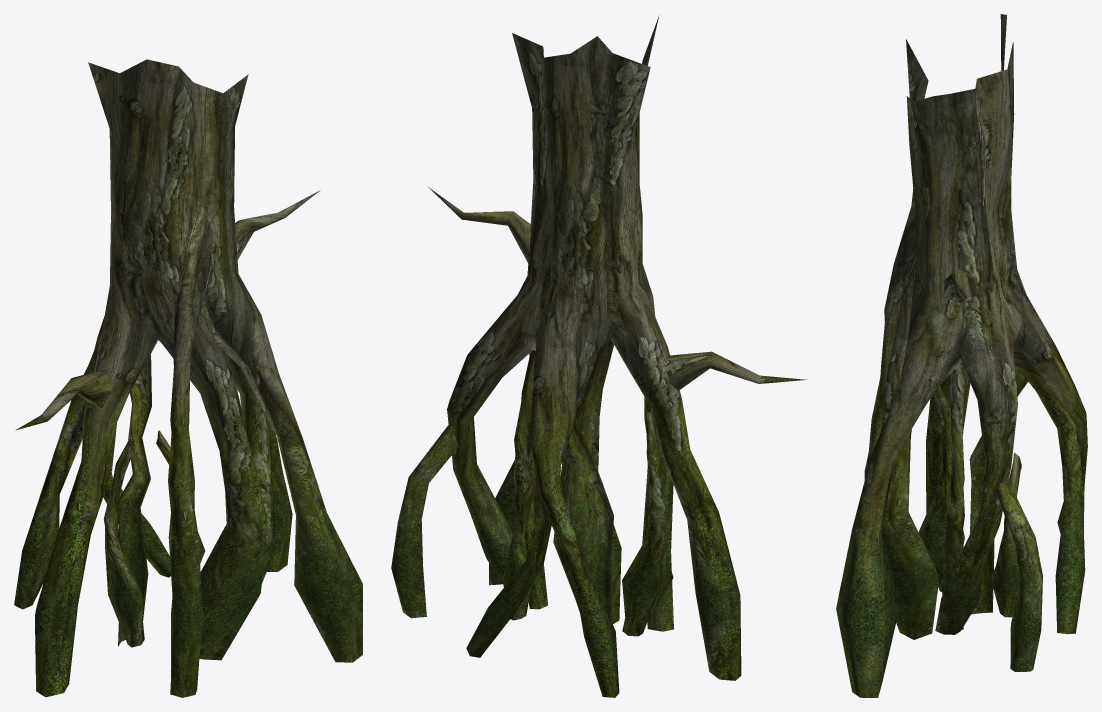
File: prayer_gate.glb
3 views of the same model, side by side, from view 1: azimuth 30°, elevation 25°; view 2: azimuth 150°, elevation 25°; view 3: azimuth 270°, elevation 25° (orthographic). The views are drawn at different scales.
Visible parts, largest first — view 1: prayer_gate; view 2: prayer_gate; view 3: prayer_gate.
Boxes of the visible parts, bbox=[...] form: prayer_gate: bbox=[14, 59, 362, 697]; prayer_gate: bbox=[391, 15, 806, 697]; prayer_gate: bbox=[836, 14, 1087, 697].
Size of the model in its own units: 34.23 by 60.43 by 22.78.
Materials: 2 (2 with a texture image).
